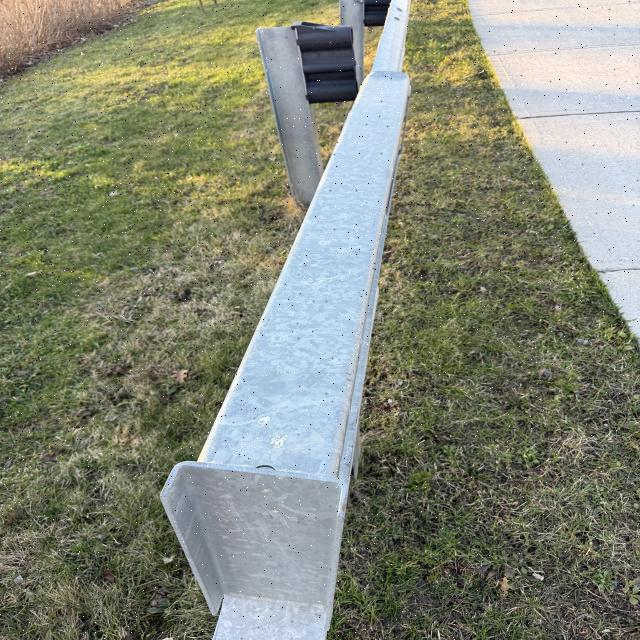Guard rail: (171, 56, 414, 614)
